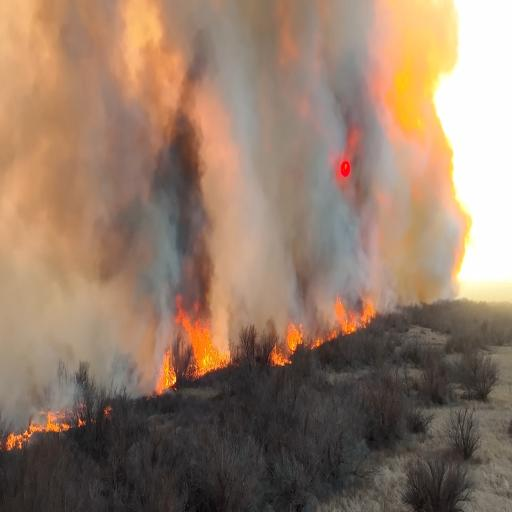fire: (156, 294, 228, 388), (0, 409, 63, 459), (330, 284, 384, 336), (271, 319, 316, 369)
smoke: (151, 8, 228, 290), (272, 9, 323, 286)
